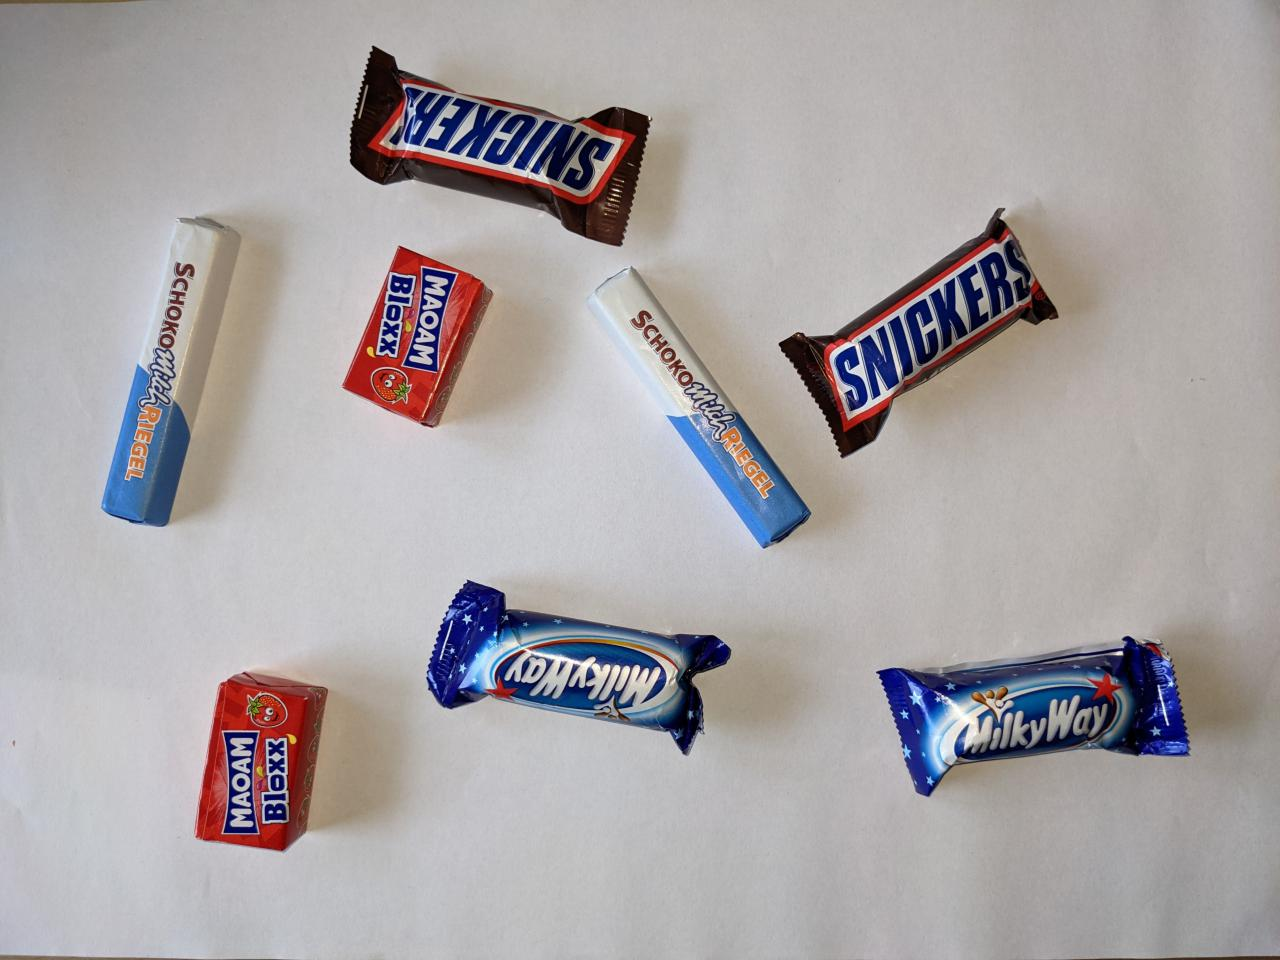MAOAM: (336, 240, 501, 436), (189, 662, 335, 858)
MilkyWay: (417, 571, 739, 767), (867, 629, 1198, 808)
Schokoriegel: (579, 260, 817, 556), (92, 209, 247, 531)
Snickers: (773, 198, 1068, 466), (342, 37, 659, 256)
